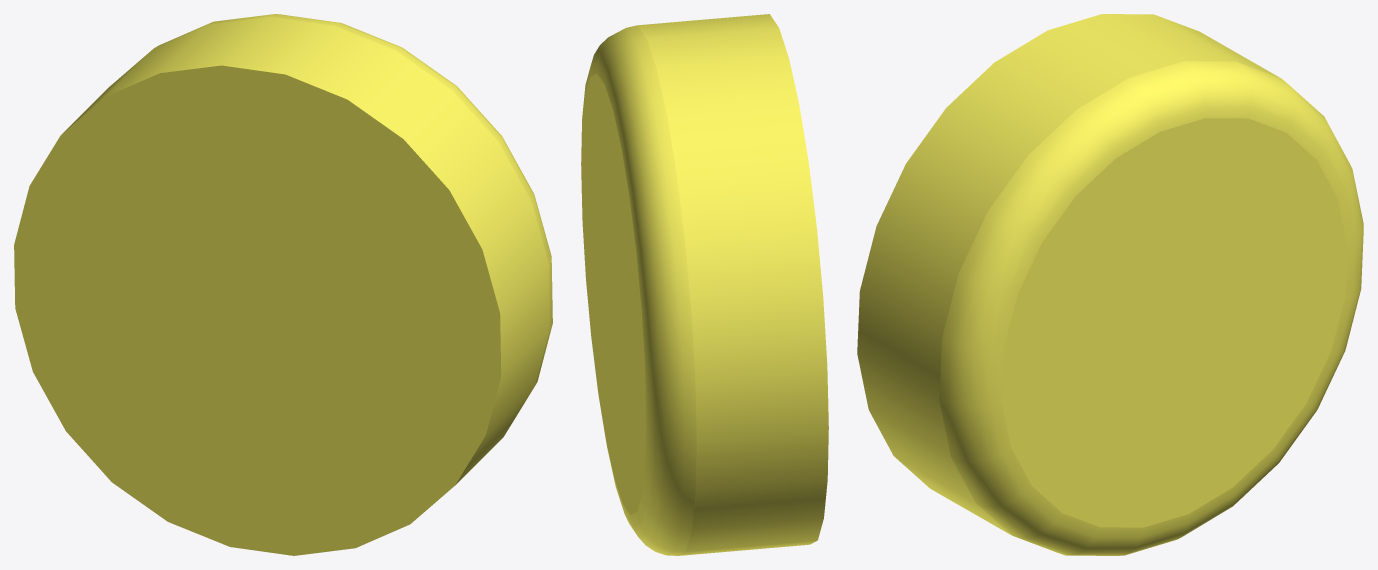
Rendered from original-35.obj.
The picture shows the model from 3 angles, left to right: view 1: azimuth 30°, elevation 25°; view 2: azimuth 150°, elevation 25°; view 3: azimuth 270°, elevation 25°; orthographic projection.
Visible parts, largest first — view 1: Component_5_29/Component_5/mesh11/mesh11-geometry#mesh11-geometr; view 2: Component_5_29/Component_5/mesh11/mesh11-geometry#mesh11-geometr; view 3: Component_5_29/Component_5/mesh11/mesh11-geometry#mesh11-geometr.
Part boxes in pixels (<box>): Component_5_29/Component_5/mesh11/mesh11-geometry#mesh11-geometr: <box>14,14,552,555</box>; Component_5_29/Component_5/mesh11/mesh11-geometry#mesh11-geometr: <box>581,14,828,555</box>; Component_5_29/Component_5/mesh11/mesh11-geometry#mesh11-geometr: <box>857,14,1363,555</box>.
Size of the model in its own units: 0.0478 by 0.0568 by 0.0542.
